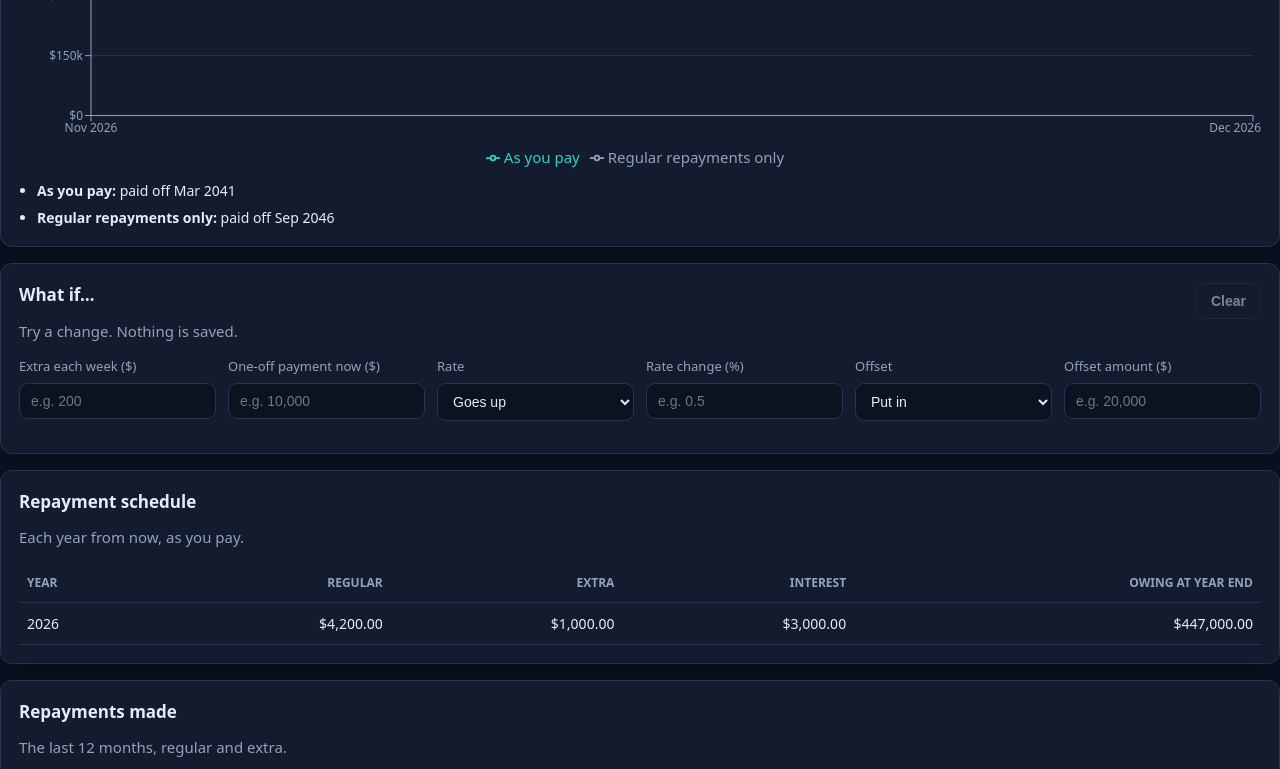
Test case: Mortgage page › clears the what-if at once, and Clear is off with nothing to clear
(page scrolled)
Expected: the button "Clear" is disabled, [1196, 283, 1261, 319]
In the field labelled "Extra each week ($)": (118, 400) [19, 382, 216, 418], type "200"
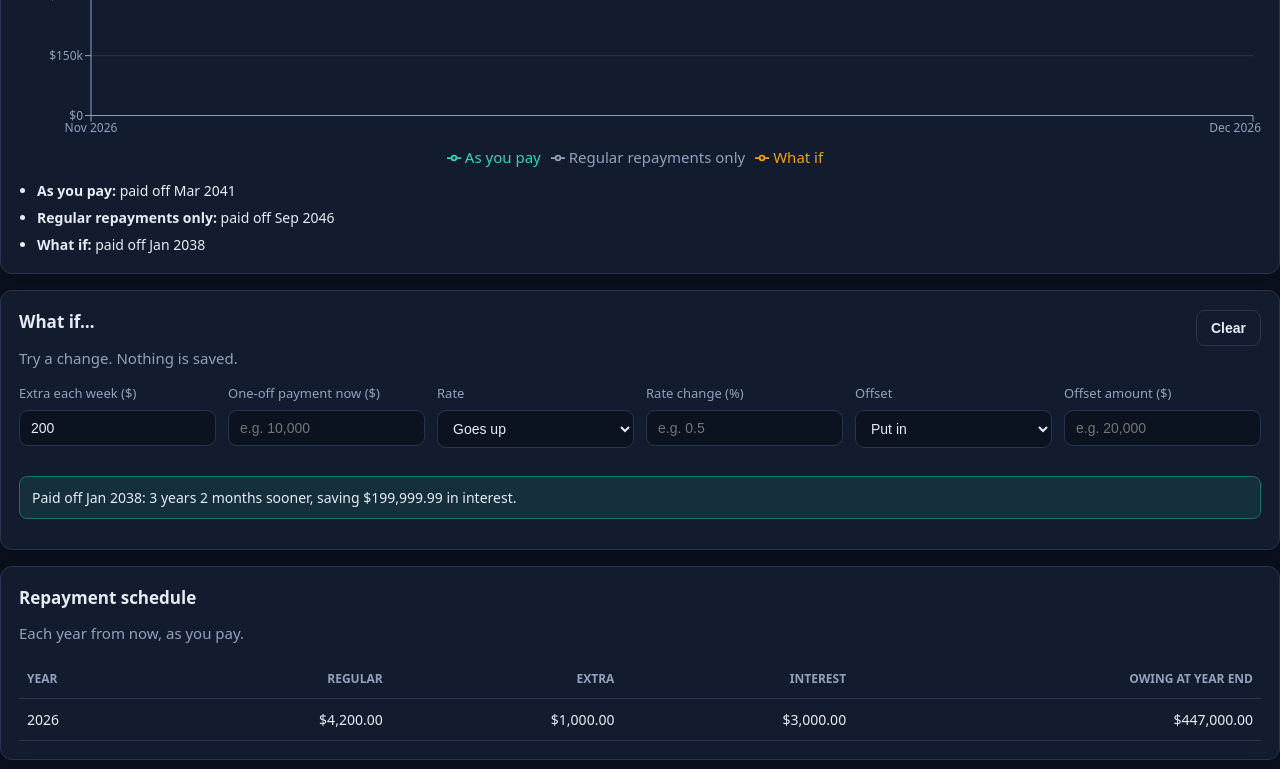
Expected: the text "Paid off Jan 2038" is shown, [32, 488, 516, 506]
Click the button "Clear": (1228, 328) [1196, 310, 1261, 346]
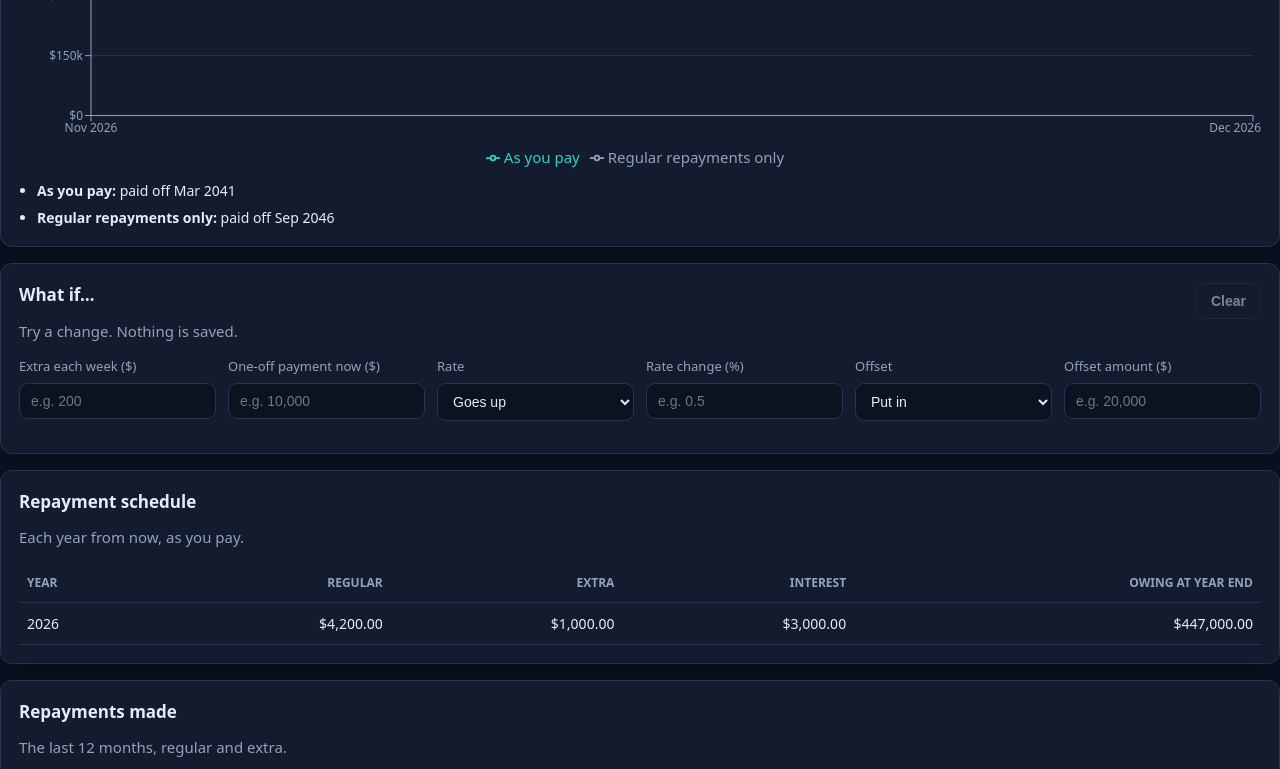
Expected: the list item "paid off Jan 2038" is gone
Expected: the field labelled "Extra each week ($)" is empty, [19, 382, 216, 418]
In the field labelled "One-off payment now ($)": (326, 400) [228, 382, 425, 418], type "50"
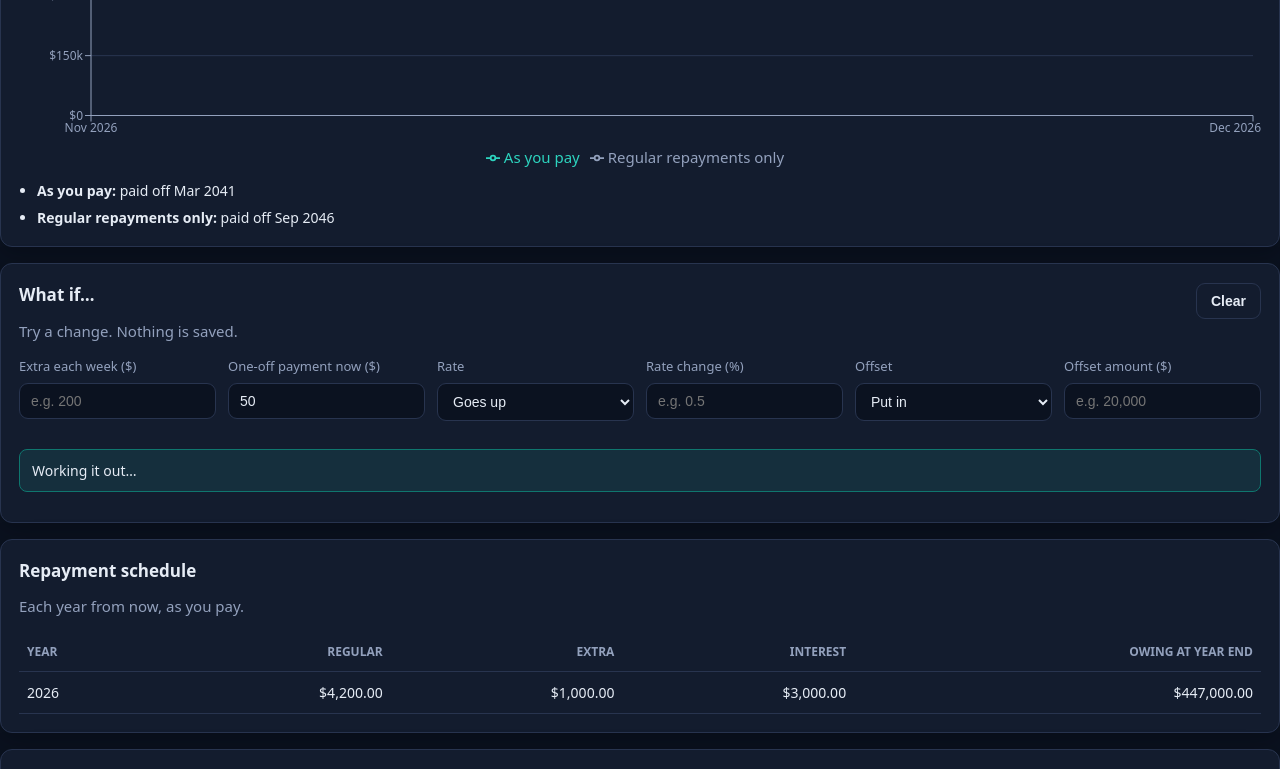
Expected: the list item "paid off Jan 2038" is not shown
Expected: the text "Working it out…" is shown, [19, 448, 1261, 492]
